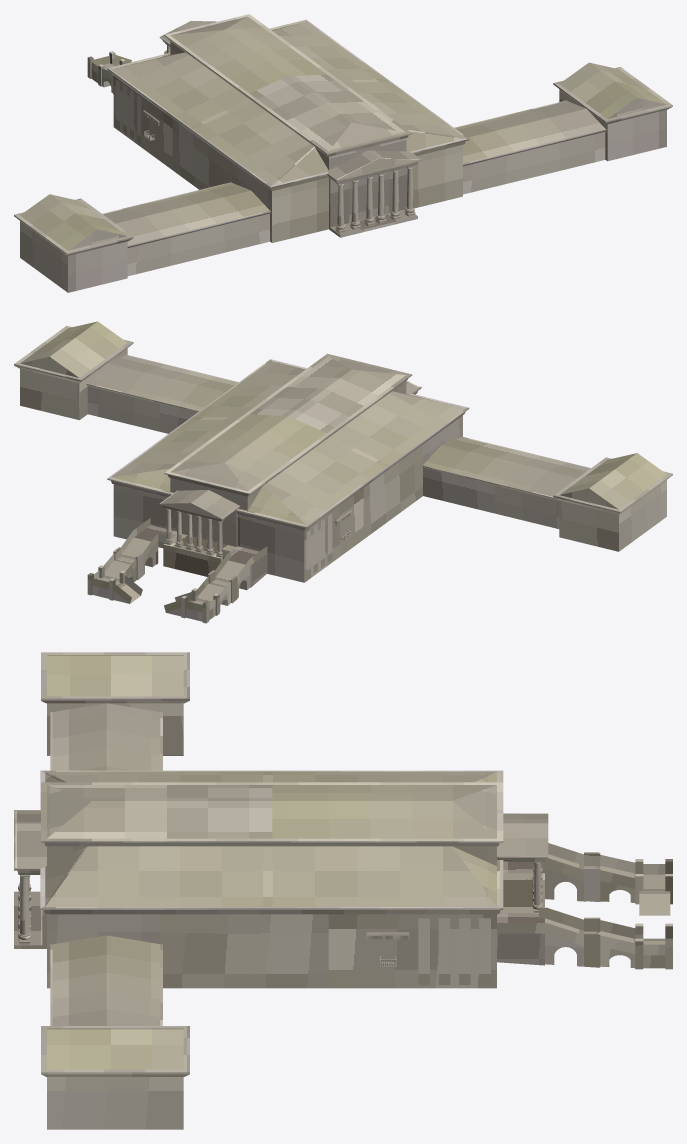
3 views of the same model, one above another, from view 1: azimuth 30°, elevation 25°; view 2: azimuth 150°, elevation 25°; view 3: azimuth 270°, elevation 25° (orthographic). The views are drawn at different scales.
Parts seen in each view (by area): view 1: dk_st; view 2: dk_st; view 3: dk_st.
Boxes of the visible parts, bbox=[...] form: dk_st: bbox=[14, 14, 672, 292]; dk_st: bbox=[14, 321, 672, 623]; dk_st: bbox=[14, 652, 672, 1129].
Size of the model in its own units: 41.45 by 5.85 by 27.49.
1 material, 1 textured.
